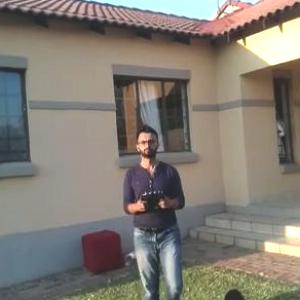follow: (120, 122, 191, 299)
